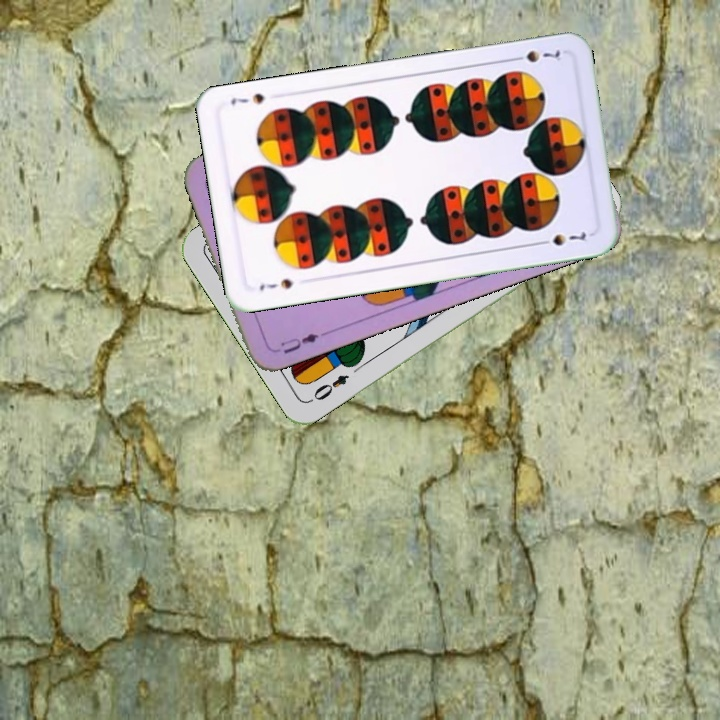EO: (309, 370, 352, 403)
EU: (276, 327, 329, 357)
S7: (507, 45, 566, 65), (255, 274, 297, 294)
